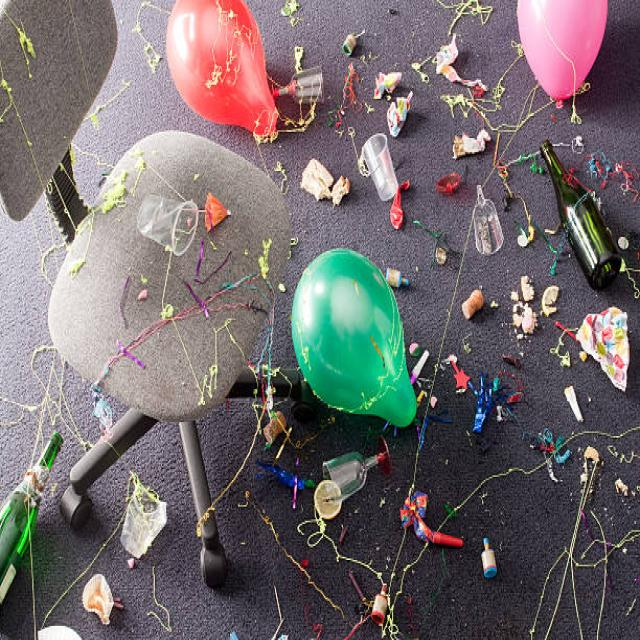glass: (538, 141, 615, 312), (1, 434, 67, 615), (307, 452, 393, 508)
trash: (149, 22, 529, 452)
